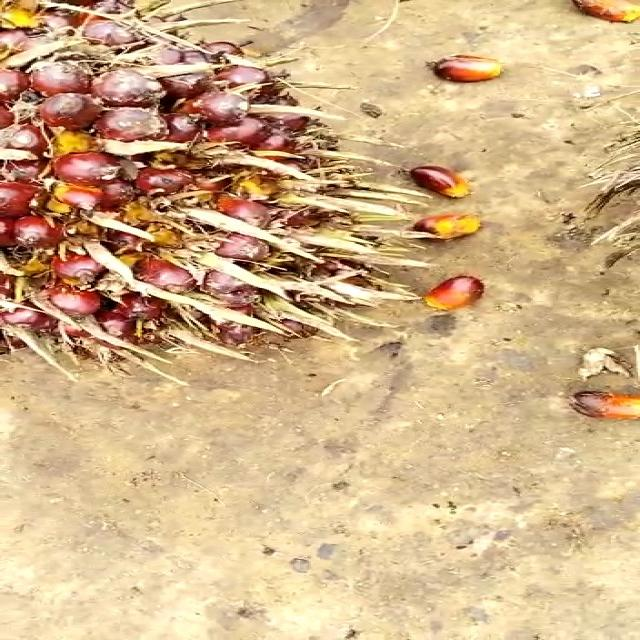palm oil: (0, 0, 408, 380)
